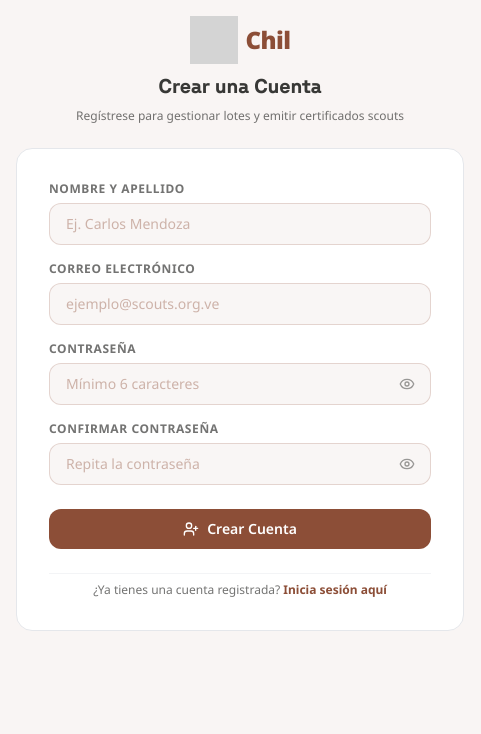
Test: RegisterPage component › displays server error if registration fails
Step 1. Type "Ana Scout" into the field labelled "Nombre y Apellido" → (240, 224), box [49,203,431,245]
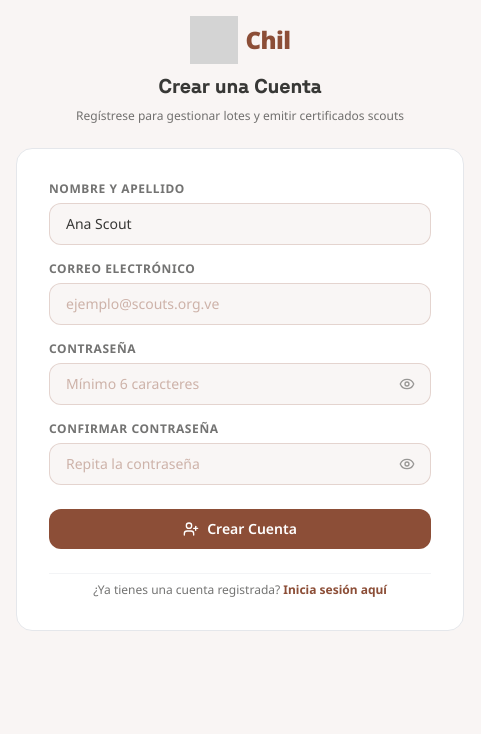
Step 2. Type "ana@scouts.org.ve" into the field labelled "Correo Electrónico" → (240, 304), box [49,283,431,325]
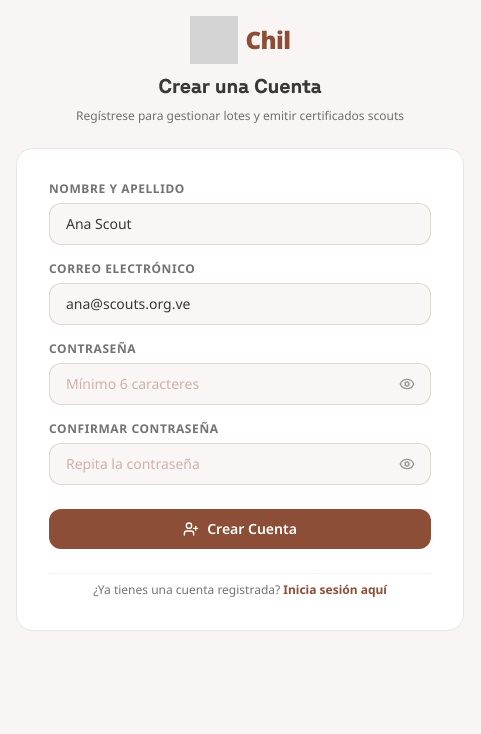
Step 3. Type "securePass123" into the password field labelled "Contraseña" → (240, 384), box [49,363,431,405]
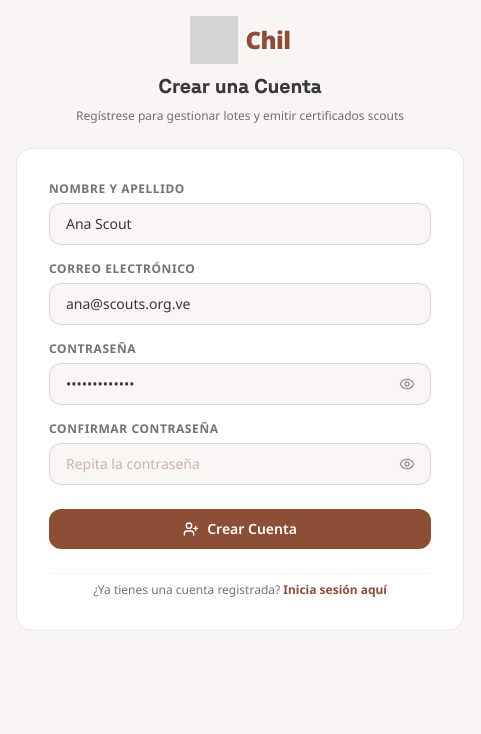
Step 4. Type "securePass123" into the password field labelled "Confirmar Contraseña" → (240, 464), box [49,443,431,485]
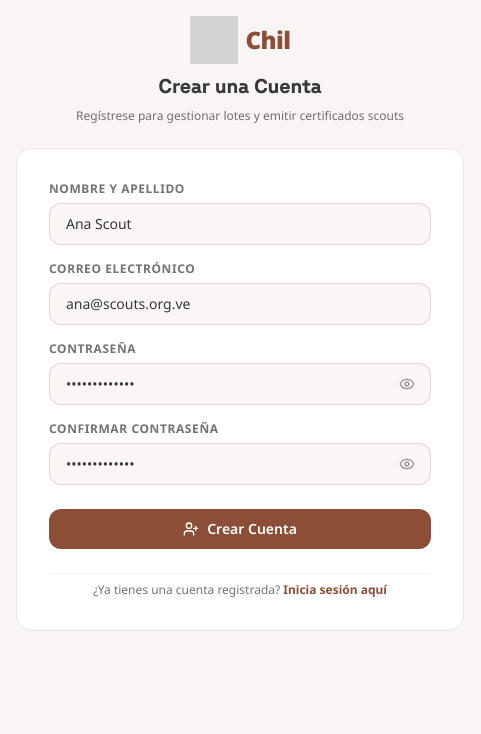
Step 5. Click the button "Crear Cuenta" → (240, 529), box [49,509,431,549]
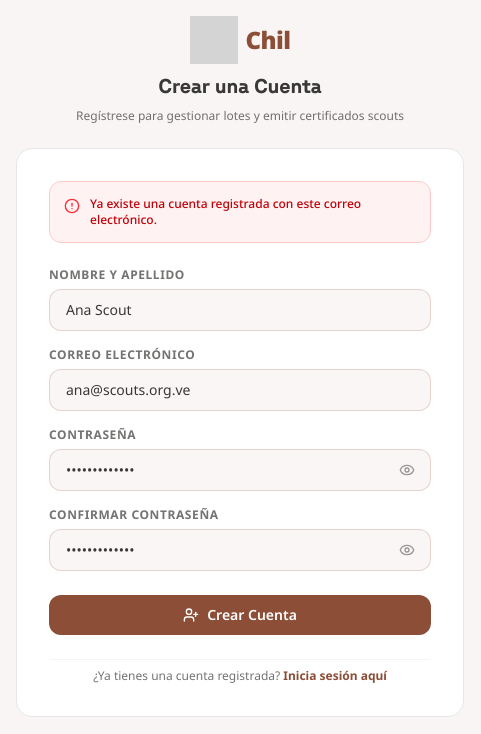
Expected: the text "Ya existe una cuenta registrada con este correo electrónico." is shown, [90,195,361,228]
